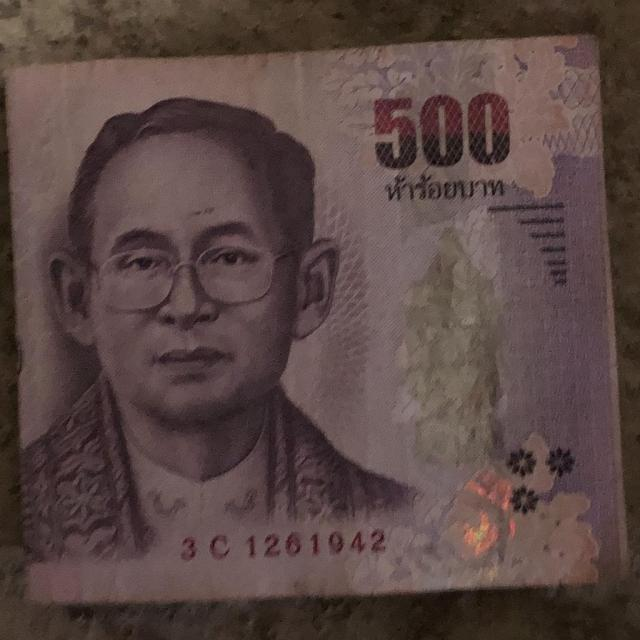THAI500: (8, 36, 626, 603)
